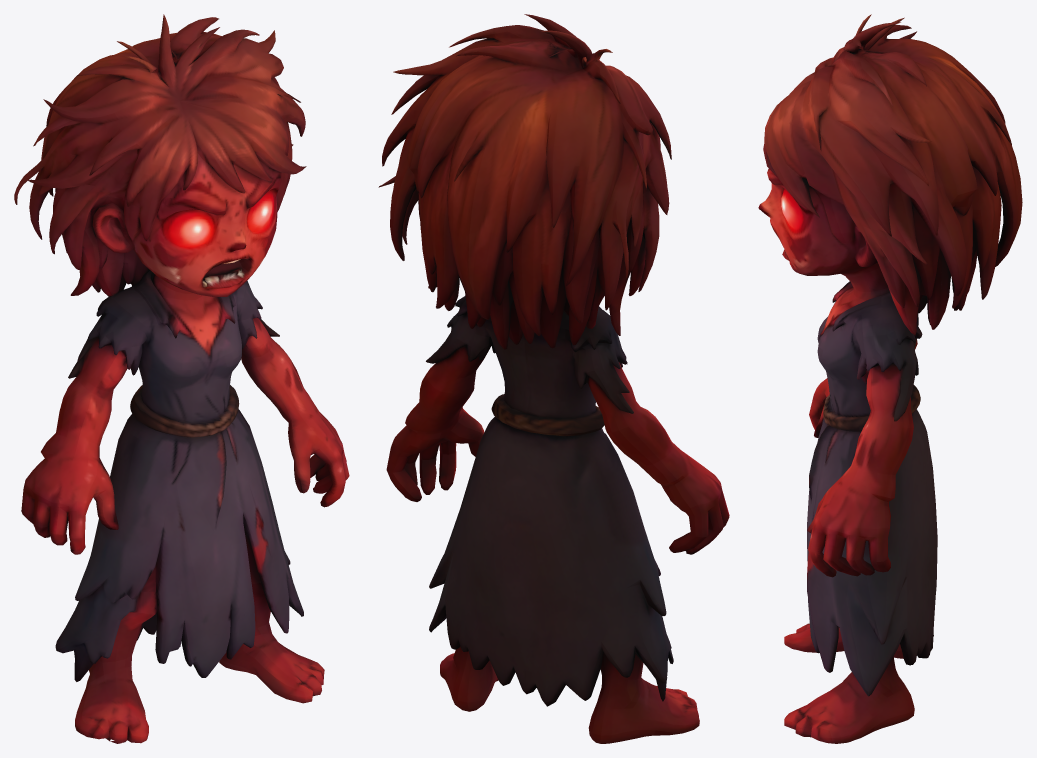
File: base_basic_shaded.fbx
The picture shows the model from 3 angles, left to right: view 1: azimuth 30°, elevation 25°; view 2: azimuth 150°, elevation 25°; view 3: azimuth 270°, elevation 25°; orthographic projection. The views are drawn at different scales.
Parts seen in each view (by area): view 1: model; view 2: model; view 3: model.
Boxes of the visible parts, x1,y1,x2,y2 form: model: [14, 14, 349, 743]; model: [378, 14, 729, 743]; model: [758, 14, 1022, 743].
Bounding box in the file's own units: 92.04 × 190 × 68.35.
